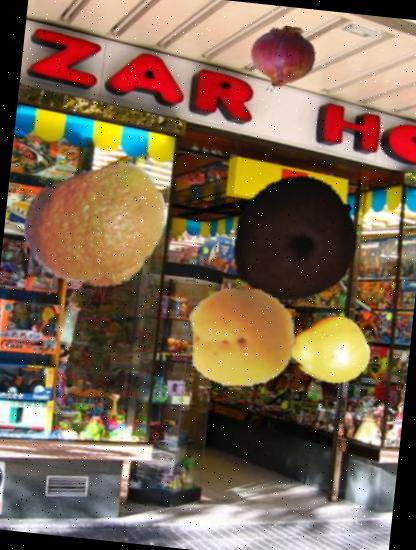Mandarine: (17, 149, 176, 308)
Onion: (245, 22, 320, 97)
Peach: (182, 278, 303, 398)
Pear: (221, 167, 366, 312)
Quince: (283, 304, 374, 395)
